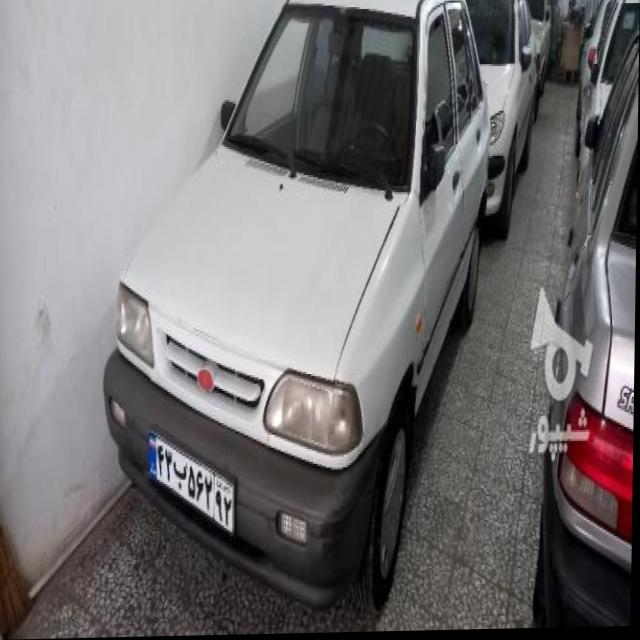licence: (146, 426, 239, 539)
